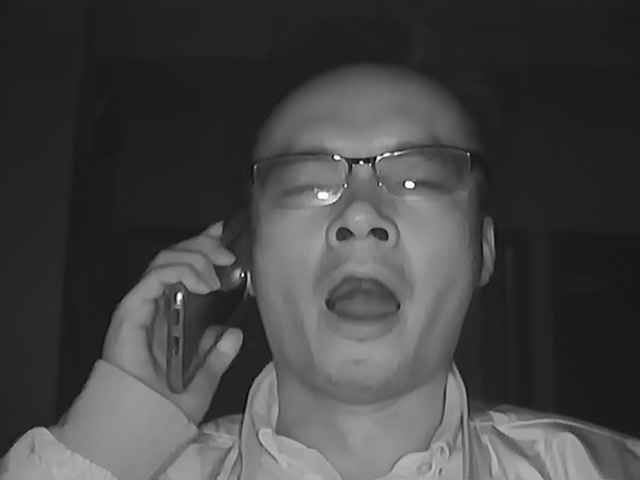hand: (96, 215, 243, 406)
